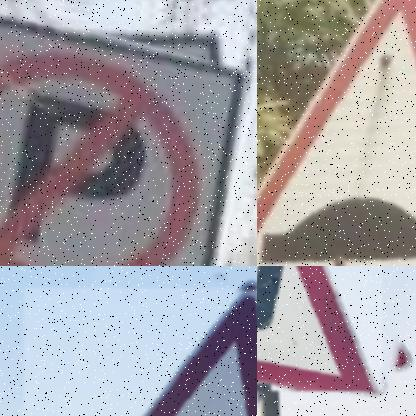No Parking: (0, 16, 247, 266)
Speed Breaker Ahead: (257, 0, 416, 266)
Steep Descent: (145, 289, 257, 416)
Zigzag Road Ahead: (257, 266, 382, 389)
